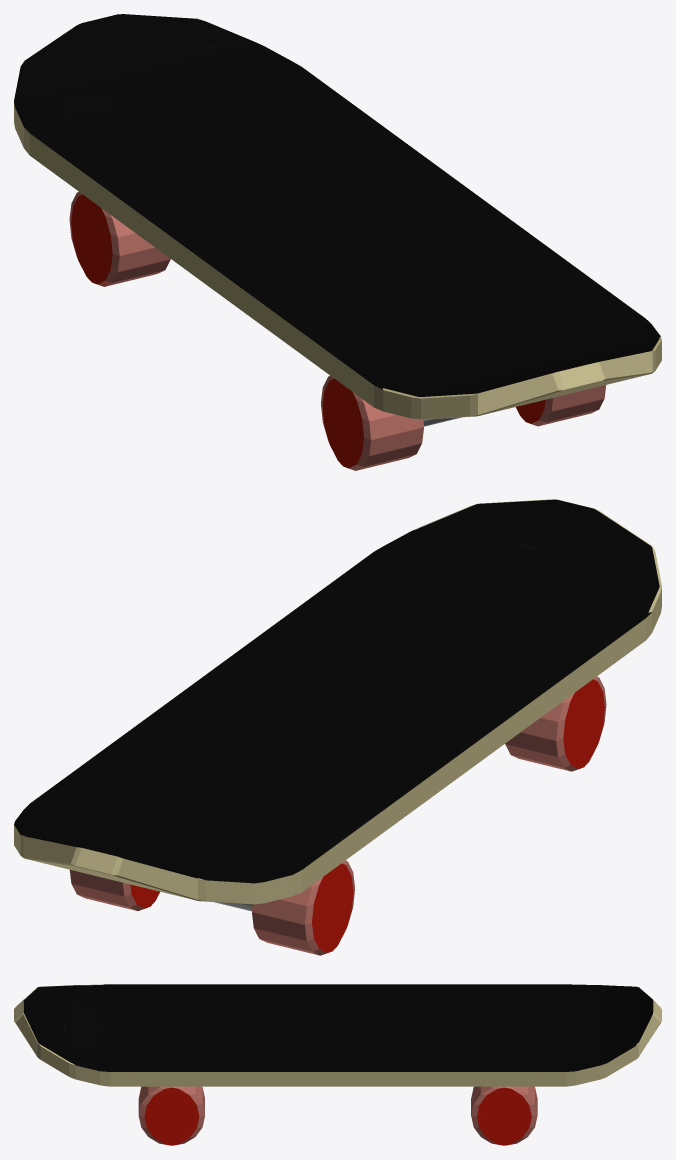
File: SkateBoard.fbx
3 renders of one model, top to bottom at view 1: azimuth 30°, elevation 25°; view 2: azimuth 150°, elevation 25°; view 3: azimuth 270°, elevation 25°, orthographic. The views are drawn at different scales.
Parts seen in each view (by area): view 1: Board; view 2: Board; view 3: Board.
Part boxes in pixels (box(x1,y1,x2,y2)): Board: box(14, 14, 661, 470); Board: box(14, 499, 661, 955); Board: box(14, 984, 661, 1145).
Size of the model in its own units: 625 by 337 by 1949.
